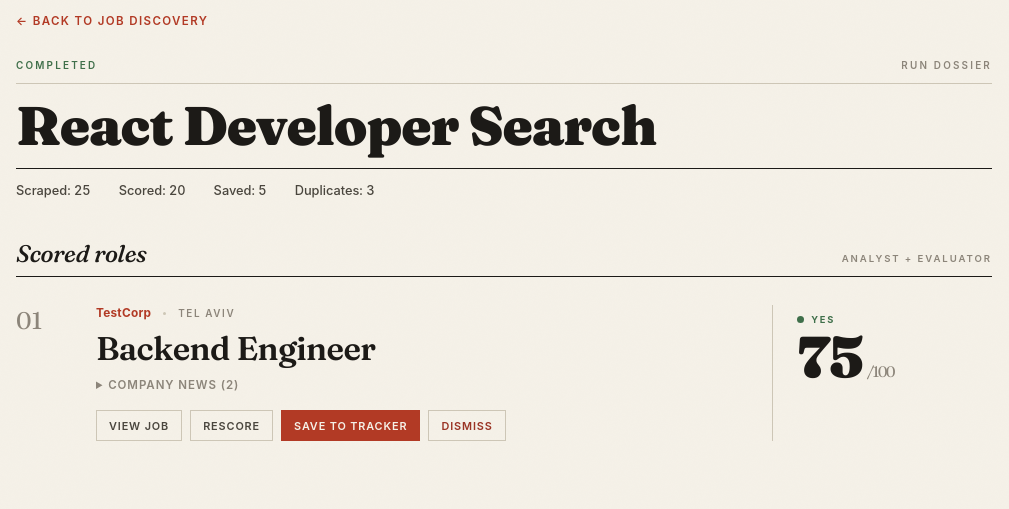
Test: RunDetailPage - Company News › collapsible section shows items on click
This screenshot has width=1009, height=509.
Check: the text "BigNews raises $50M" is not shown
Click the heading "Company News (2)".
click(174, 385)  # box [108,378,239,392]
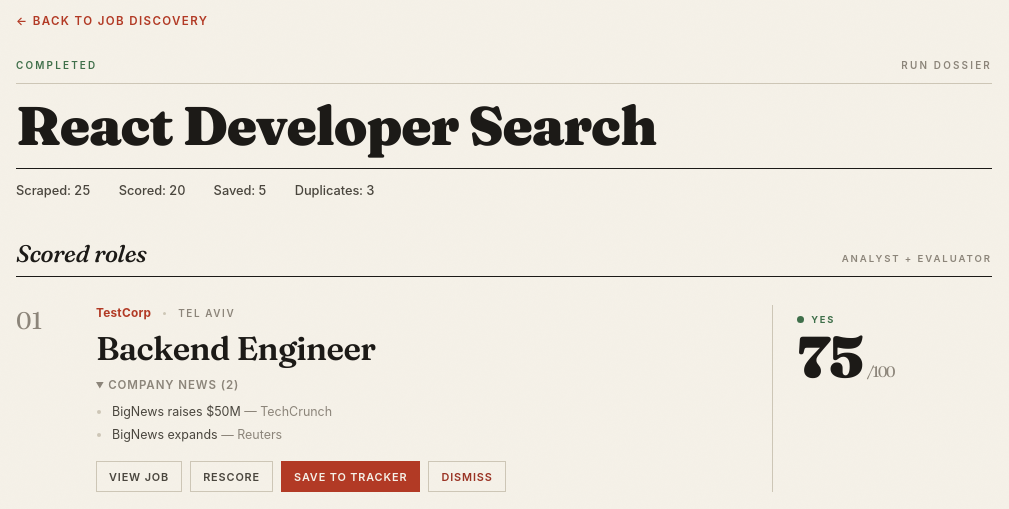
Check: the list item "BigNews raises $50M" is shown, box [112,404,241,419]
Check: the text "TechCrunch" is shown, box [260,404,332,419]
Check: the list item "BigNews expands" is shown, box [112,427,218,442]
